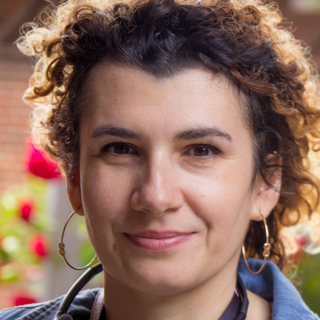eye: (177, 139, 227, 164), (96, 139, 144, 163)
